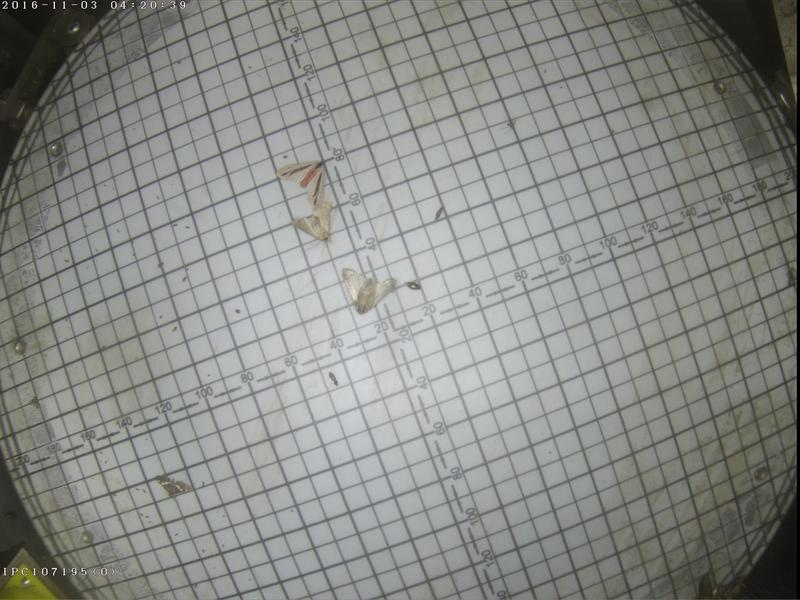Gryllotalpa orientalis: (689, 568, 723, 599)
Spodoptera litura: (337, 266, 398, 314)
